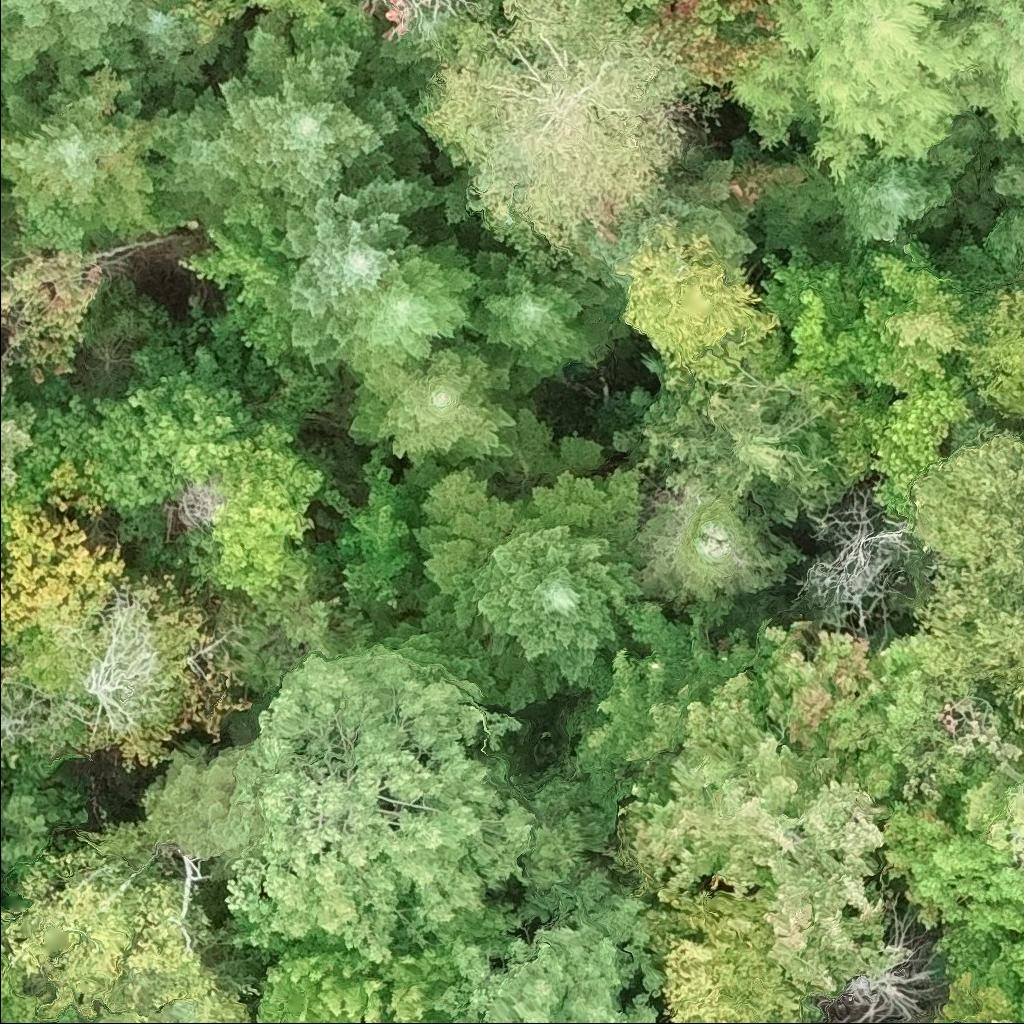crown: (590, 603, 970, 995), (226, 650, 533, 970), (418, 0, 696, 258), (0, 348, 259, 548), (144, 27, 408, 207), (732, 0, 969, 185), (0, 854, 241, 1023), (760, 244, 970, 397), (879, 767, 1023, 989), (644, 373, 839, 510), (0, 84, 153, 251), (479, 525, 638, 685), (463, 249, 629, 395), (195, 417, 321, 602), (442, 928, 682, 1023), (621, 235, 774, 380), (314, 244, 481, 376), (285, 176, 432, 320), (180, 192, 299, 368), (668, 894, 818, 1023), (351, 348, 517, 463), (789, 493, 911, 647), (419, 467, 536, 627), (616, 481, 772, 597), (923, 548, 1023, 722), (844, 375, 966, 517), (908, 435, 1023, 579), (0, 246, 96, 383), (0, 0, 148, 86), (837, 145, 953, 251), (645, 0, 772, 87), (152, 748, 245, 857), (952, 0, 1023, 142), (528, 469, 643, 553), (251, 948, 376, 1023), (947, 293, 1023, 413), (840, 936, 933, 1023), (365, 954, 461, 1023), (0, 354, 40, 492), (936, 966, 1023, 1023), (0, 945, 63, 1023), (127, 0, 200, 63), (0, 186, 24, 283), (245, 0, 312, 13)
